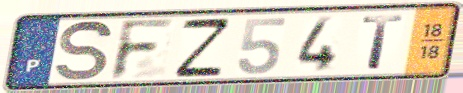4: (294, 15, 340, 73)
5: (235, 15, 288, 76)
F: (107, 16, 178, 82)
S: (53, 18, 116, 83)
T: (359, 13, 407, 71)
Z: (172, 15, 233, 79)
